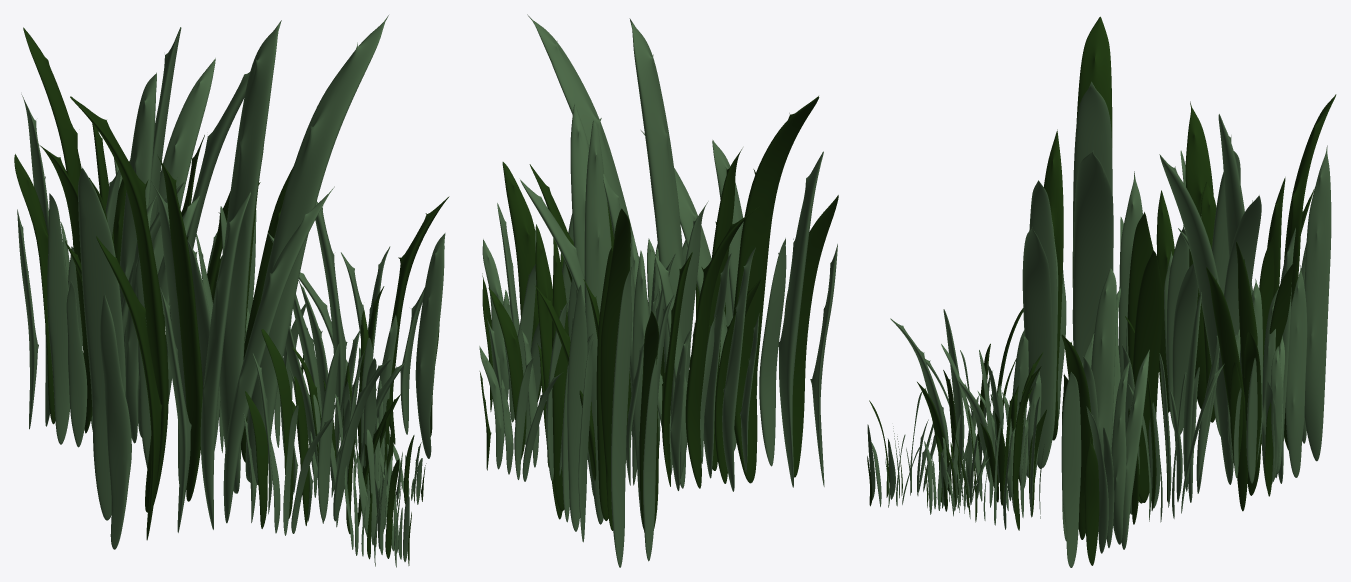
File: grass.fbx
3 views of the same model, side by side, from view 1: azimuth 30°, elevation 25°; view 2: azimuth 150°, elevation 25°; view 3: azimuth 270°, elevation 25° (orthographic). The views are drawn at different scales.
Parts seen in each view (by area): view 1: Grass; view 2: Grass; view 3: Grass.
Part boxes in pixels (x1,y1,x2,y2): Grass: (14, 15, 449, 567); Grass: (479, 14, 838, 567); Grass: (867, 16, 1336, 567).
Size of the model in its own units: 128 by 158 by 155.
